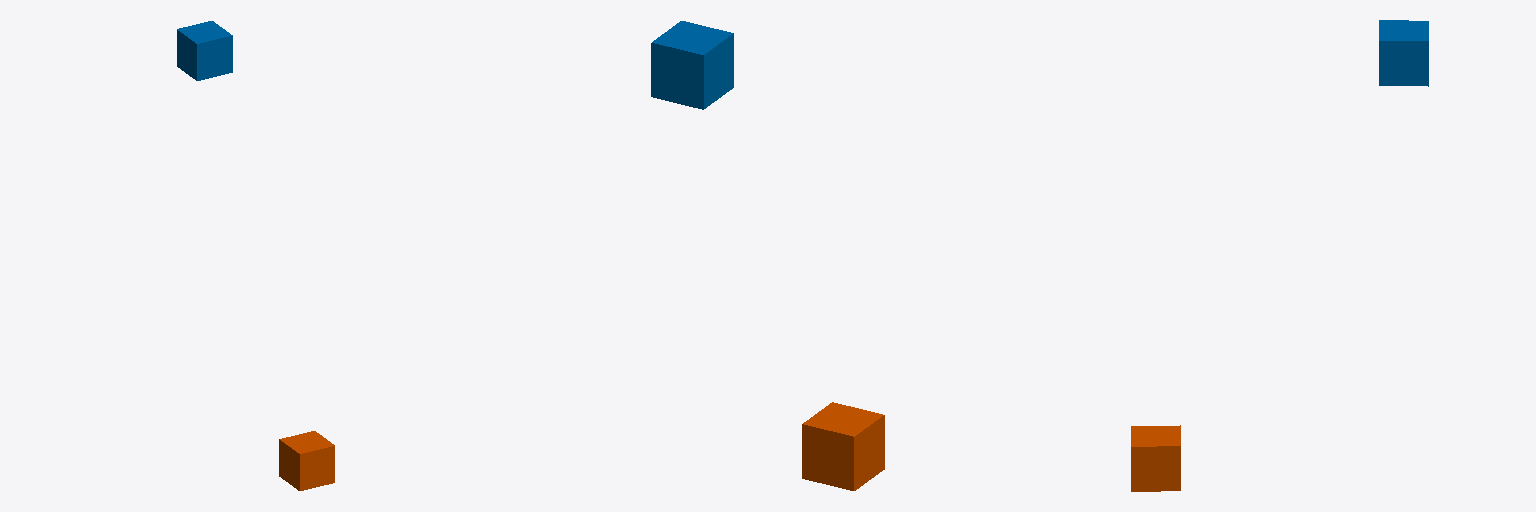
The robot description file, URDF, robot "iris_demo":
<?xml version="1.0" ?>
<robot name="iris_demo">
  <link name="base_link"/>

  <joint name="base_link_joint" type="fixed">
    <!--
      <origin rpy="0 0 1.5708" xyz="0 0 0"/>
    -->
    <origin rpy="0 0 1.5708" xyz="0 0 0"/>
    <parent link="base_link"/>
    <child link="iris_demo__iris__base_link"/>
  </joint>

  <joint name="iris_demo__iris__iris/imu_joint" type="fixed">
    <parent link="iris_demo__iris__base_link"/>
    <child link="iris_demo__iris__iris/imu_link"/>
    <origin xyz="0      0      0.19492" rpy="0 0 -1.5708"/>
    <axis xyz="0 0 1"/>
    <limit lower="0.0" upper="0.0" effort="0.0" velocity="0.0"/>
  </joint>

<!-- 
  <joint name="iris_demo__iris_gimbal_mount" type="fixed">
    <parent link="iris_demo__iris__base_link"/>
    <child link="iris_demo__gimbal_small_2d__base_link"/>
    <origin xyz="0 -0.01014  0.07014" rpy="1.57 0   1.57"/>
    <axis xyz="0.0e+00 1.0e+00 7.9e-04"/>
    <limit lower="0.0" upper="0.0" effort="0.0" velocity="0.0"/>
  </joint>

  <joint name="iris_demo__iris__rotor_0_joint" type="revolute">
    <parent link="iris_demo__iris__base_link"/>
    <child link="iris_demo__iris__rotor_0"/>
    <origin xyz="0.13    -0.22     0.21792" rpy="0 0 0"/>
    <axis xyz="0 0 1"/>
    <limit lower="-1e+16" upper="1e+16" effort="0.0" velocity="0.0"/>
  </joint>

  <joint name="iris_demo__iris__rotor_1_joint" type="revolute">
    <parent link="iris_demo__iris__base_link"/>
    <child link="iris_demo__iris__rotor_1"/>
    <origin xyz="-0.13     0.2      0.21792" rpy="0 0 0"/>
    <axis xyz="0 0 1"/>
    <limit lower="-1e+16" upper="1e+16" effort="0.0" velocity="0.0"/>
  </joint>

  <joint name="iris_demo__iris__rotor_2_joint" type="revolute">
    <parent link="iris_demo__iris__base_link"/>
    <child link="iris_demo__iris__rotor_2"/>
    <origin xyz="0.13    0.22    0.21792" rpy="0 0 0"/>
    <axis xyz="0 0 1"/>
    <limit lower="-1e+16" upper="1e+16" effort="0.0" velocity="0.0"/>
  </joint>

  <joint name="iris_demo__iris__rotor_3_joint" type="revolute">
    <parent link="iris_demo__iris__base_link"/>
    <child link="iris_demo__iris__rotor_3"/>
    <origin xyz="-0.13    -0.2      0.21792" rpy="0 0 0"/>
    <axis xyz="0 0 1"/>
    <limit lower="-1e+16" upper="1e+16" effort="0.0" velocity="0.0"/>
  </joint>

  <joint name="iris_demo__gimbal_small_2d__tilt_joint" type="revolute">
    <parent link="iris_demo__gimbal_small_2d__base_link"/>
    <child link="iris_demo__gimbal_small_2d__tilt_link"/>
    <origin xyz="0   0   0.02" rpy="0 0 0"/>
    <axis xyz="1 0 0"/>
    <limit lower="-0.1" upper="3.14159265" effort="10.0" velocity="-1.0"/>
  </joint>


  <joint name="iris_demo__gimbal_small_2d__base_camera_joint" type="fixed">
    <parent link="iris_demo__gimbal_small_2d__tilt_link"/>
    <child link="iris_demo__gimbal_small_2d__camera"/>
    <origin xyz="0   0  0" rpy="1.57 0   1.57"/>
    <axis xyz="0.0e+00 1.0e+00 7.9e-04"/>
    <limit lower="0.0" upper="0.0" effort="0.0" velocity="0.0"/>
  </joint>
-->

  <joint name="iris_demo__hokuyo_joint" type="fixed">
    <parent link="iris_demo__iris__base_link"/>
    <child link="iris_demo__hokuyo_link"/>
    <origin xyz="0   0   0.27" rpy="0 0 0"/>
    <axis xyz="0 0 0"/>
    <limit lower="0" upper="0" effort="0" velocity="0"/>
  </joint>


  <link name="iris_demo__iris__base_link">
    <inertial>
      <mass value="1.5"/>
      <origin xyz="0 0 0" rpy="0 0 0"/>
      <inertia ixx="0.008" ixy="0" ixz="0" iyy="0.015" iyz="0" izz="0.017"/>
    </inertial>
    
    <collision name="iris_demo__iris__base_link_collision">
        <origin xyz="0  0  0.19492" rpy="0 0 0"/>
        <geometry>
          <!--
            <box size="0.8 0.7 0.15"/>
          -->
          <box size="1 1 1"/>
        </geometry>
    </collision>

    <visual name="iris_demo__iris__base_link_visual">
      <origin xyz="0      0      0.19492" rpy="0 0 -1.5708"/>
      <geometry>
        <mesh filename="package://iq_sim/models/iris_with_standoffs/meshes/iris.dae" scale="1.0 1.0 1.0"/>
      </geometry>
    </visual>

  </link>

  <link name="iris_demo__iris__iris/imu_link">
    <inertial>
      <mass value="0.15"/>
      <origin xyz="0 0 0" rpy="0 0 0"/>
      <inertia ixx="0.00001" ixy="0" ixz="0" iyy="0.00002" iyz="0" izz="0.00002"/>
    </inertial>
  </link>

<!--
  <link name="iris_demo__iris__rotor_0">
    <inertial>
      <mass value="0.025"/>
      <origin xyz="0 0 0" rpy="0 0 0"/>
      <inertia ixx="9.75e-06" ixy="0" ixz="0" iyy="0.000166704" iyz="0" izz="0.000167604"/>
    </inertial>

    <collision name="iris_demo__iris__rotor_0_collision">
      <origin xyz="0 0 0" rpy="0 0 0"/>
      <geometry>
        <cylinder radius="0.1" length="0.005"/>
      </geometry>
    </collision>

    <visual name="iris_demo__iris__rotor_0_visual">
      <origin xyz="0 0 0" rpy="0 0 0"/>
      <geometry>
        <mesh filename="file://[local-path]/catkin_ws/src/iq_sim/models/iris_with_standoffs/meshes/iris_prop_ccw.dae" scale="1 1 1"/>
      </geometry>
    </visual>
  </link>

  <link name="iris_demo__iris__rotor_1">
    <inertial>
      <mass value="0.025"/>
      <origin xyz="0 0 0" rpy="0 0 0"/>
      <inertia ixx="9.75e-06" ixy="0" ixz="0" iyy="0.000166704" iyz="0" izz="0.000167604"/>
    </inertial>

    <collision name="iris_demo__iris__rotor_1_collision">
      <origin xyz="0 0 0" rpy="0 0 0"/>
      <geometry>
        <cylinder radius="0.1" length="0.005"/>
      </geometry>
    </collision>

    <visual name="iris_demo__iris__rotor_1_visual">
      <origin xyz="0 0 0" rpy="0 0 0"/>
      <geometry>
        <mesh filename="file://[local-path]/catkin_ws/src/iq_sim/models/iris_with_standoffs/meshes/iris_prop_ccw.dae" scale="1 1 1"/>
      </geometry>
    </visual>
  </link>

  <link name="iris_demo__iris__rotor_2">
    <inertial>
      <mass value="0.025"/>
      <origin xyz="0 0 0" rpy="0 0 0"/>
      <inertia ixx="9.75e-06" ixy="0" ixz="0" iyy="0.000166704" iyz="0" izz="0.000167604"/>
    </inertial>

    <collision name="iris_demo__iris__rotor_2_collision">
      <origin xyz="0 0 0" rpy="0 0 0"/>
      <geometry>
        <cylinder radius="0.1" length="0.005"/>
      </geometry>
    </collision>

    <visual name="iris_demo__iris__rotor_2_visual">
      <origin xyz="0 0 0" rpy="0 0 0"/>
      <geometry>
        <mesh filename="file://[local-path]/catkin_ws/src/iq_sim/models/iris_with_standoffs/meshes/iris_prop_ccw.dae" scale="1 1 1"/>
      </geometry>
    </visual>
  </link>

  <link name="iris_demo__iris__rotor_3">
    <inertial>
      <mass value="0.025"/>
      <origin xyz="0 0 0" rpy="0 0 0"/>
      <inertia ixx="9.75e-06" ixy="0" ixz="0" iyy="0.000166704" iyz="0" izz="0.000167604"/>
    </inertial>

    <collision name="iris_demo__iris__rotor_3_collision">
      <origin xyz="0 0 0" rpy="0 0 0"/>
      <geometry>
        <cylinder radius="0.1" length="0.005"/>
      </geometry>
    </collision>

    <visual name="iris_demo__iris__rotor_3_visual">
      <origin xyz="0 0 0" rpy="0 0 0"/>
      <geometry>
        <mesh filename="file://[local-path]/catkin_ws/src/iq_sim/models/iris_with_standoffs/meshes/iris_prop_ccw.dae" scale="1 1 1"/>
      </geometry>
    </visual>
  </link>

  <link name="iris_demo__gimbal_small_2d__tilt_link">
    <inertial>
      <mass value="0.01"/>
      <origin xyz="0 0 0" rpy="0 0 0"/>
      <inertia ixx="0.00001" ixy="0" ixz="0" iyy="0.00001" iyz="0" izz="0.00001"/>
    </inertial>

    <collision name="iris_demo__gimbal_small_2d__tilt_col">
      <origin xyz="0     0    -0.025" rpy="0 0 0"/>
      <geometry>
        <mesh filename="file://[local-path]/catkin_ws/src/iq_sim/models/gimbal_small_2d/meshes/tilt.dae" scale="0.001 0.001 0.001"/>
      </geometry>
    </collision>

    <collision name="iris_demo__gimbal_small_2d__camera_col">
      <origin xyz="0 0 0" rpy="0 0 0"/>
      <geometry>
        <cylinder radius="0.025" length="0.050"/>
      </geometry>
    </collision>

    <visual name="iris_demo__gimbal_small_2d__tilt_viz">
      <origin xyz="0     0    -0.025" rpy="0 0 0"/>
      <geometry>
        <mesh filename="file://[local-path]/catkin_ws/src/iq_sim/models/gimbal_small_2d/meshes/tilt.dae" scale="0.001 0.001 0.001"/>
      </geometry>
    </visual>

    <visual name="iris_demo__gimbal_small_2d__camera_viz">
      <origin xyz="0 0 0" rpy="0 0 0"/>
      <geometry>
        <cylinder radius="0.025" length="0.050"/>
      </geometry>
    </visual>
  </link>

  <link name="iris_demo__gimbal_small_2d__base_link">
    <inertial>
      <mass value="0.2"/>
      <origin xyz="0 0 0" rpy="0 0 0"/>
      <inertia ixx="0.0001" ixy="0" ixz="0" iyy="0.0001" iyz="0" izz="0.0001"/>
    </inertial>

    <collision name="iris_demo__gimbal_small_2d__base_col">
      <origin xyz="0.01   0.075 -0.025" rpy="0 0 0"/>
      <geometry>
        <box size="0.1 0.05 0.15"/>
      </geometry>
    </collision>

    <visual name="iris_demo__gimbal_small_2d__base_main_viz">
      <origin xyz="0 0 0" rpy="0 0 0"/>
      <geometry>
        <mesh filename="file://[local-path]/catkin_ws/src/iq_sim/models/gimbal_small_2d/meshes/base_main.dae" scale="0.001 0.001 0.001"/>
      </geometry>
    </visual>

    <visual name="iris_demo__gimbal_small_2d__base_arm_viz">
      <origin xyz="0 0 0" rpy="0 0 0"/>
      <geometry>
        <mesh filename="file://[local-path]/catkin_ws/src/iq_sim/models/gimbal_small_2d/meshes/base_arm.dae" scale="0.001 0.001 0.001"/>
      </geometry>
    </visual>
  </link>

  <link name="iris_demo__gimbal_small_2d__camera">
    <inertial>
      <mass value="0.1"/>
      <origin xyz="0 0 0" rpy="0 0 0"/>
      <inertia ixx="0.001" ixy="0" ixz="0" iyy="0.001" iyz="0" izz="0.001"/>
    </inertial>

    <visual name="camera_visual">
      <origin xyz="0 0 0" rpy="0 0 0"/>
      <geometry>
        <cylinder radius="0.025" length="0.025"/>
      </geometry>
    </visual>
  </link>
-->

  <link name="iris_demo__hokuyo_link">
    <inertial>
      <mass value="0.016"/>
      <origin xyz="0 0 0" rpy="0 0 0"/>
      <inertia ixx="0.0001" ixy="0" ixz="0" iyy="0.0001" iyz="0" izz="0.0001"/>
    </inertial>

    <collision name="hokuyo_collision">
      <origin xyz="0  0  0.025" rpy="0 0 0"/>
      <geometry>
        <box size="0.08 0.08 0.08"/>
      </geometry>
    </collision>

    <visual name="hokuyo_visual">
      <origin xyz="0   0   0" rpy="0 0 0"/>
      <geometry>
        <mesh filename="package://iq_sim/models/hokuyo/meshes/hokuyo.dae" scale="1.0 1.0 1.0"/>
      </geometry>
    </visual>
  </link>


<!-- Sonar Sensor - Top -->
<link name="base_sonar_top">
  <inertial>
    <origin xyz="0 0 0" />
    <mass value="0.01" />
    <inertia ixx="0.001" ixy="0" ixz="0" iyy="0.001" iyz="0" izz="0.001" />
  </inertial>
  <visual>
    <origin xyz="0 0 0" />
    <geometry>
      <box size="0.01 0.01 0.01" />
    </geometry>
  </visual>
</link>
<joint name="base_sonar_top_joint" type="fixed">
  <parent link="iris_demo__iris__base_link" />
  <child link="base_sonar_top" />
  <origin xyz="0.05 0 0.24" rpy="0 -1.57005 0" />
</joint>

<!-- Sonar Sensor - Bottom -->
<link name="base_sonar_bottom">
  <inertial>
    <origin xyz="0 0 0" />
    <mass value="0.01" />
    <inertia ixx="0.001" ixy="0" ixz="0" iyy="0.001" iyz="0" izz="0.001" />
  </inertial>
  <visual>
    <origin xyz="0 0 0" />
    <geometry>
      <box size="0.01 0.01 0.01" />
    </geometry>
  </visual>
</link>
<joint name="base_sonar_bottom_joint" type="fixed">
  <parent link="iris_demo__iris__base_link" />
  <child link="base_sonar_bottom" />
  <origin xyz="0 0 0.15" rpy="0 1.57005 0" />
</joint>


<!-- Sonar Sensor - Front 
<link name="base_sonar_front">
  <inertial>
    <origin xyz="0 0 0" />
    <mass value="0.01" />
    <inertia ixx="0.001" ixy="0" ixz="0" iyy="0.001" iyz="0" izz="0.001" />
  </inertial>
  <visual>
    <origin xyz="0 0 0" />
    <geometry>
      <box size="0.01 0.01 0.01" />
    </geometry>
  </visual>
</link>
<joint name="base_sonar_front_joint" type="fixed">
  <parent link="iris_demo__iris__base_link" />
  <child link="base_sonar_front" />
  <origin xyz="0 -0.1 0.2" rpy="0 0 -1.5708" />
</joint>
-->

<!-- Sonar Sensor - Right 
<link name="base_sonar_right">
  <inertial>
    <origin xyz="0 0 0" />
    <mass value="0.01" />
    <inertia ixx="0.001" ixy="0" ixz="0" iyy="0.001" iyz="0" izz="0.001" />
  </inertial>
  <visual>
    <origin xyz="0 0 0" />
    <geometry>
      <box size="0.01 0.01 0.01" />
    </geometry>
  </visual>
</link>
<joint name="base_sonar_right_joint" type="fixed">
  <parent link="iris_demo__iris__base_link" />
  <child link="base_sonar_right" />
  <origin xyz="-0.05 0 0.2" rpy="0 0 3.1416" /> 
</joint>
-->

<!-- Sonar Sensor - Back 
<link name="base_sonar_back">
  <inertial>
    <origin xyz="0 0 0" />
    <mass value="0.01" />
    <inertia ixx="0.001" ixy="0" ixz="0" iyy="0.001" iyz="0" izz="0.001" />
  </inertial>
  <visual>
    <origin xyz="0 0 0" />
    <geometry>
      <box size="0.01 0.01 0.01" />
    </geometry>
  </visual>
</link>
<joint name="base_sonar_back_joint" type="fixed">
  <parent link="iris_demo__iris__base_link" />
  <child link="base_sonar_back" />
  <origin xyz="0 0.112 0.2" rpy="0 0 1.5708" />
</joint>
-->

<!-- Sonar Sensor - Left 
<link name="base_sonar_left">
  <inertial>
    <origin xyz="0 0 0" />
    <mass value="0.01" />
    <inertia ixx="0.001" ixy="0" ixz="0" iyy="0.001" iyz="0" izz="0.001" />
  </inertial>
  <visual>
    <origin xyz="0 0 0" />
    <geometry>
      <box size="0.01 0.01 0.01" />
    </geometry>
  </visual>
</link>
<joint name="base_sonar_left_joint" type="fixed">
  <parent link="iris_demo__iris__base_link" />
  <child link="base_sonar_left" />
  <origin xyz="0.05 0 0.2" rpy="0 0 0"/>
</joint>
-->




  <gazebo>
    <plugin name="gazebo_ros_control">
        <robotNamespace>/</robotNamespace>
    </plugin>
  </gazebo>

</robot>

--- Facts derived from the render (not from the file) ---
Views: 3 orthographic renders of the robot side by side, from view 1: azimuth 30°, elevation 25°; view 2: azimuth 150°, elevation 25°; view 3: azimuth 270°, elevation 25°.
Robot: iris_demo — 6 links, 5 joints (5 fixed); root link base_link; default pose: all joints at 0.
Visible links, largest first — view 1: base_sonar_bottom, base_sonar_top; view 2: base_sonar_top, base_sonar_bottom; view 3: base_sonar_top, base_sonar_bottom.
Boxes of the visible links, x1,y1,x2,y2 form: base_sonar_bottom: (279, 431, 334, 490); base_sonar_top: (177, 21, 232, 80); base_sonar_top: (651, 21, 733, 109); base_sonar_bottom: (802, 402, 884, 490); base_sonar_top: (1379, 20, 1428, 86); base_sonar_bottom: (1131, 425, 1180, 491).
Bounding box of the posed robot: 0.01 × 0.06 × 0.1 m (x, y, z).
0 mesh visuals loaded from 2 distinct referenced files (none loaded); not drawn: 2 (reference not matched to a file when rendering).
